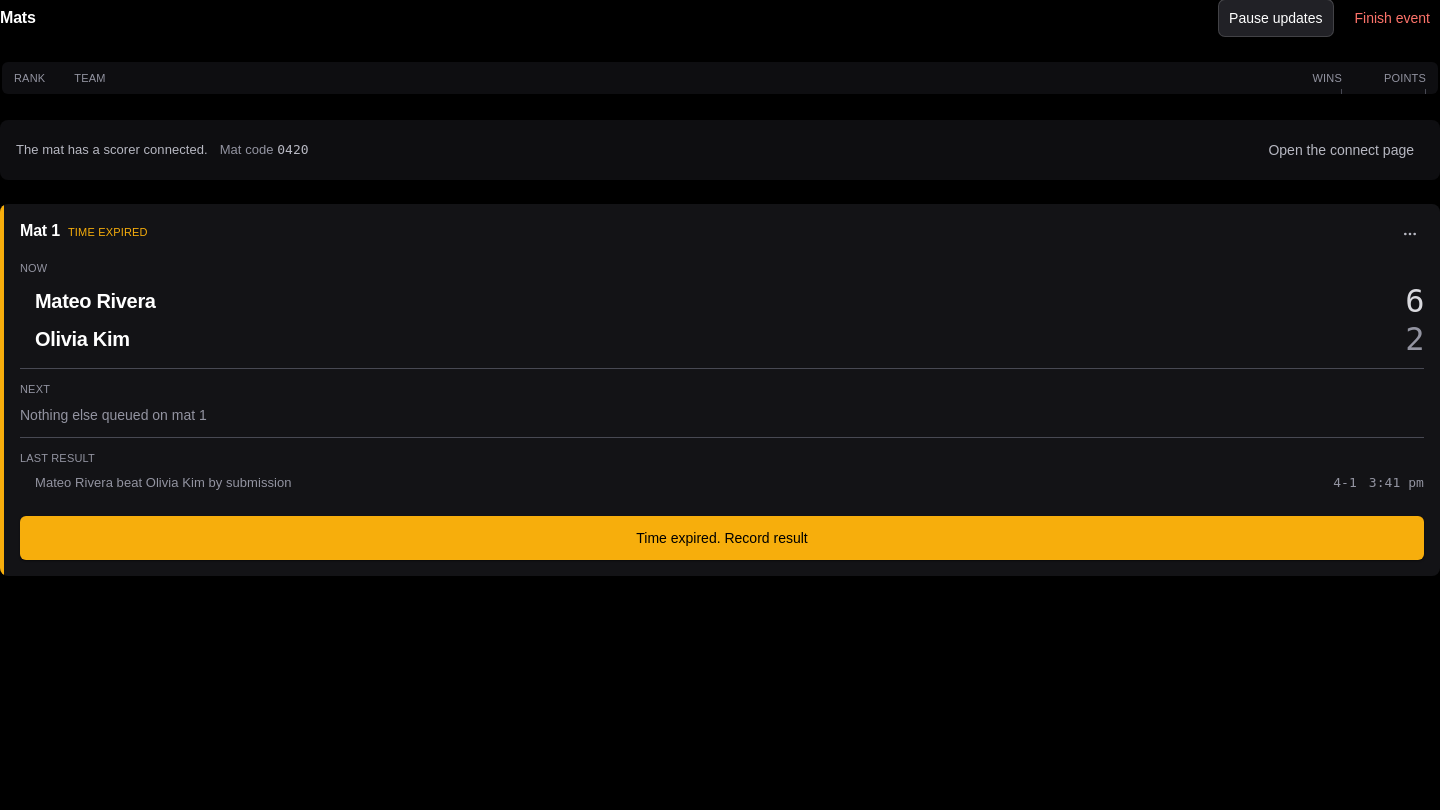
Test: LiveTab › keeps the finish dialog open when the server refuses
This screenshot has width=1440, height=810.
Click the button "Finish event" at (1392, 18), box [1344, 0, 1439, 36]
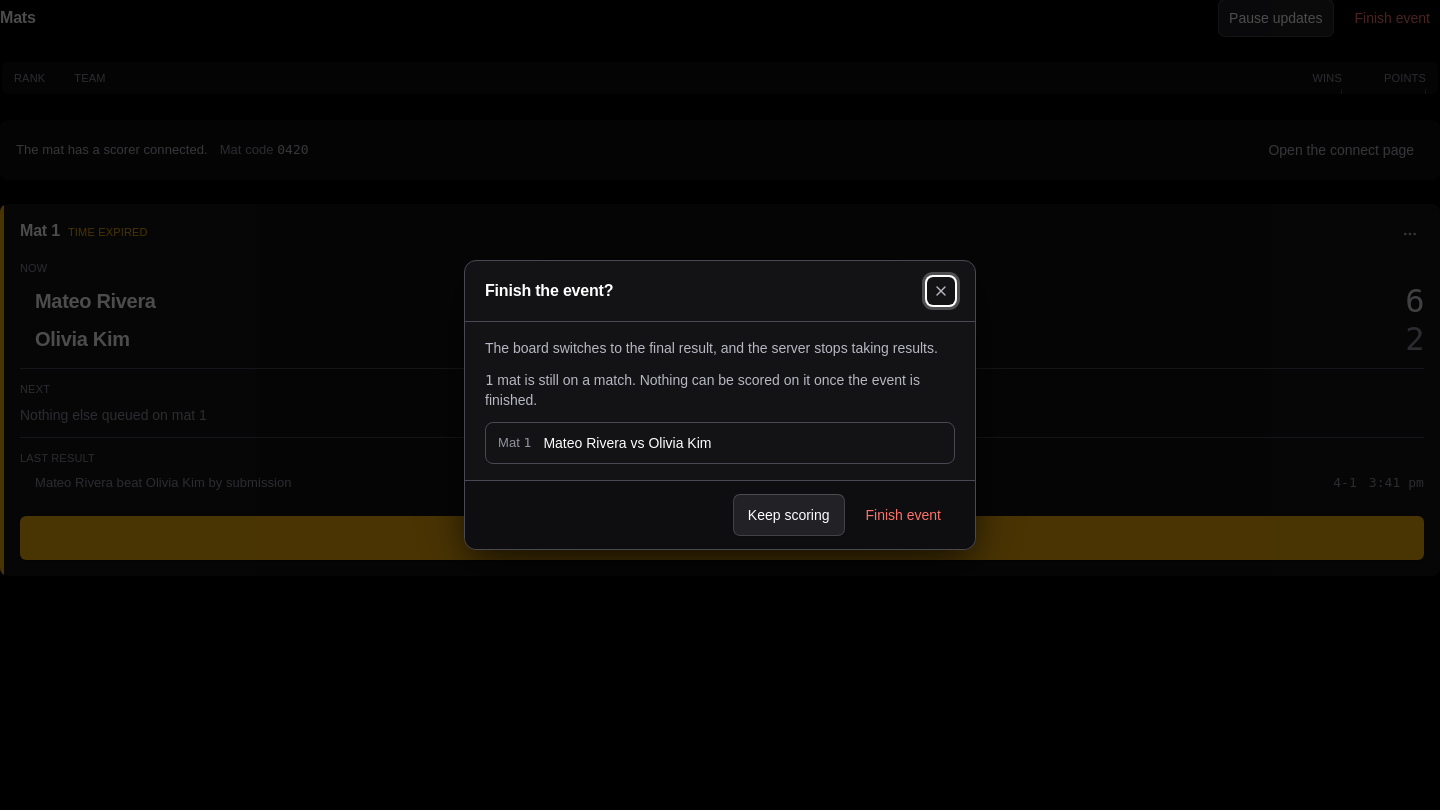
Click the button "Finish event" at (903, 515), box [852, 495, 955, 535]
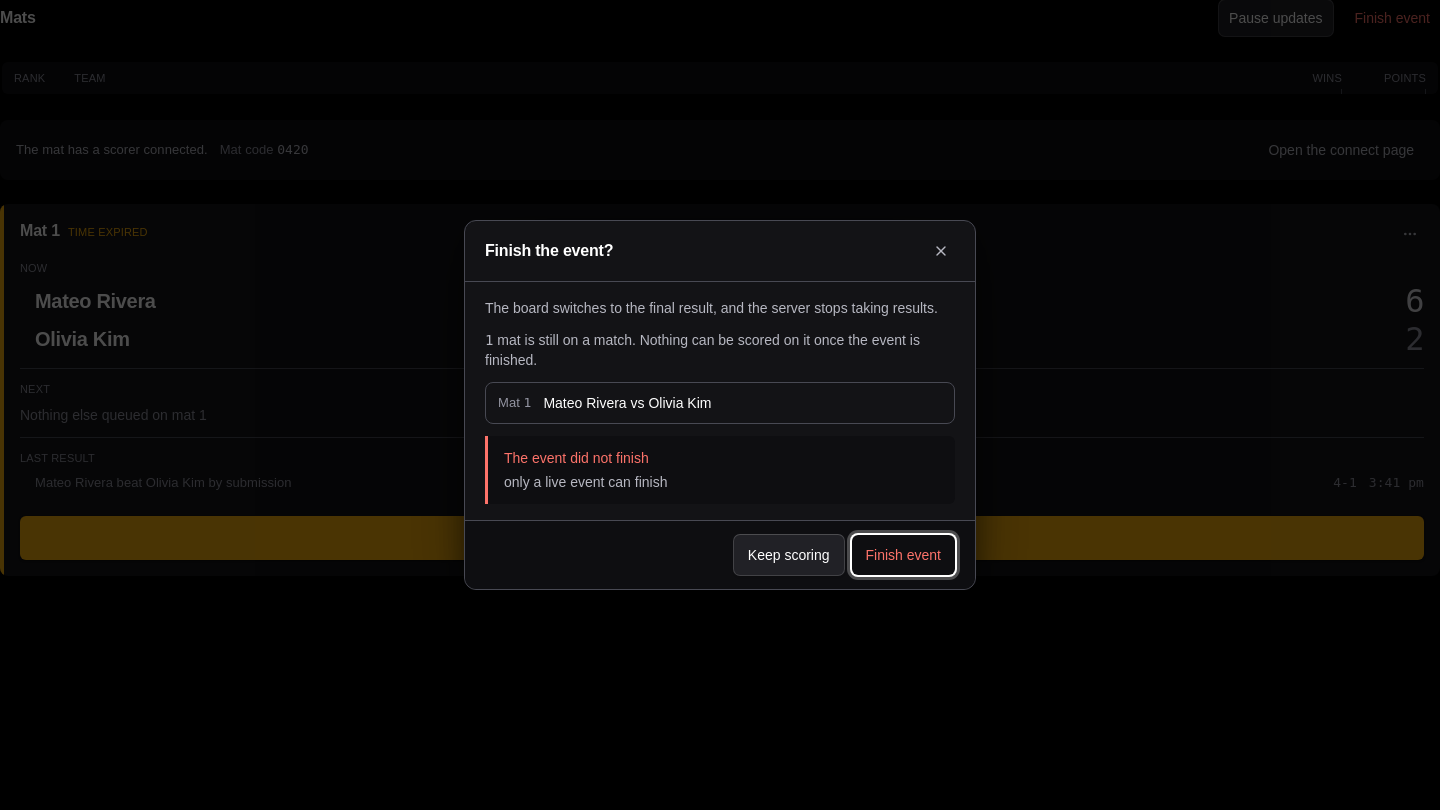
expect the dialog is shown: met, box [464, 220, 976, 590]
expect the message shows "only a live event can finish": met, box [504, 474, 667, 490]
